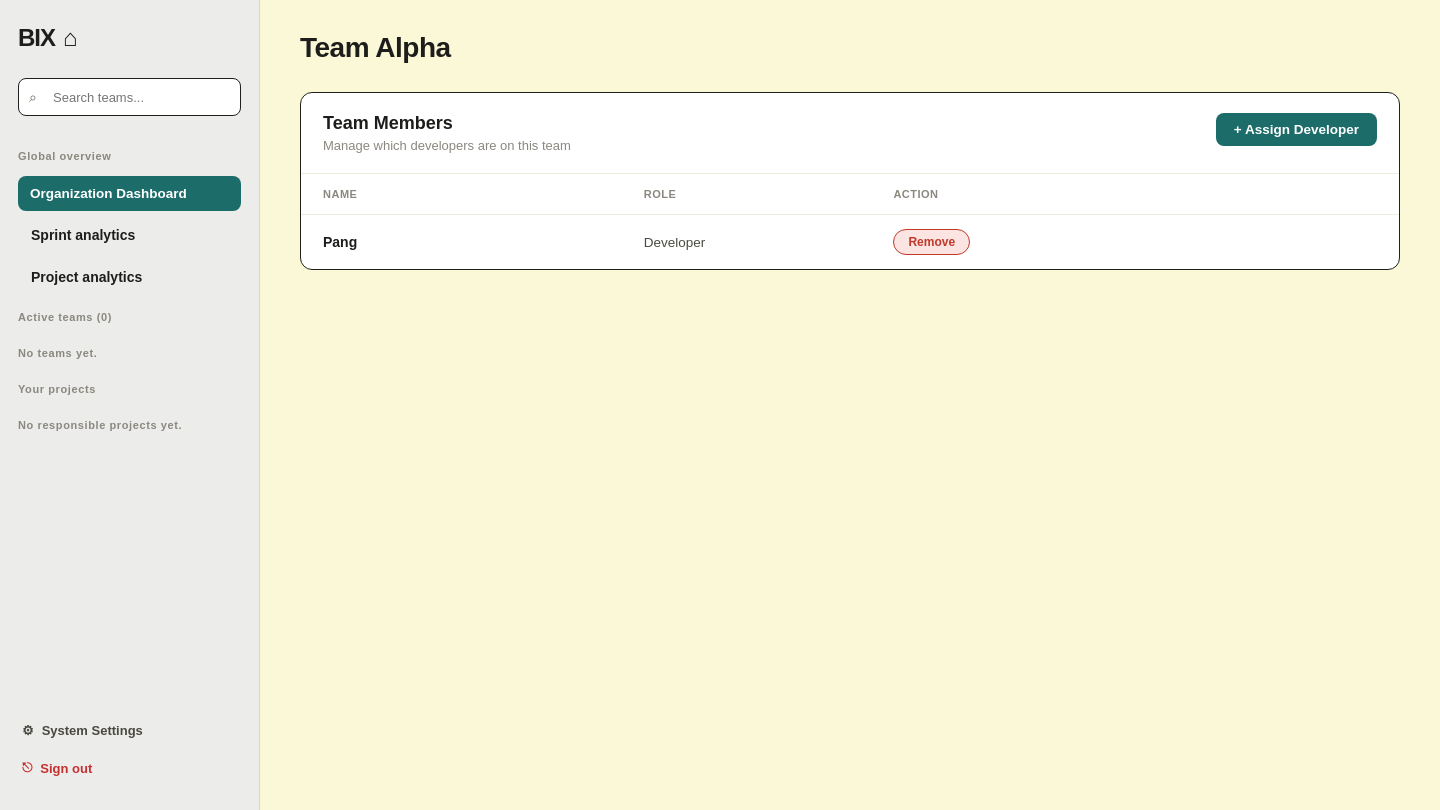
TeamDetail (real data) › filters the assign-modal candidate list by search
Expected: the heading "Team Alpha" is shown, [300, 32, 451, 63]
Click the button "+ Assign Developer". click: (1296, 130)
box: [1216, 113, 1377, 146]
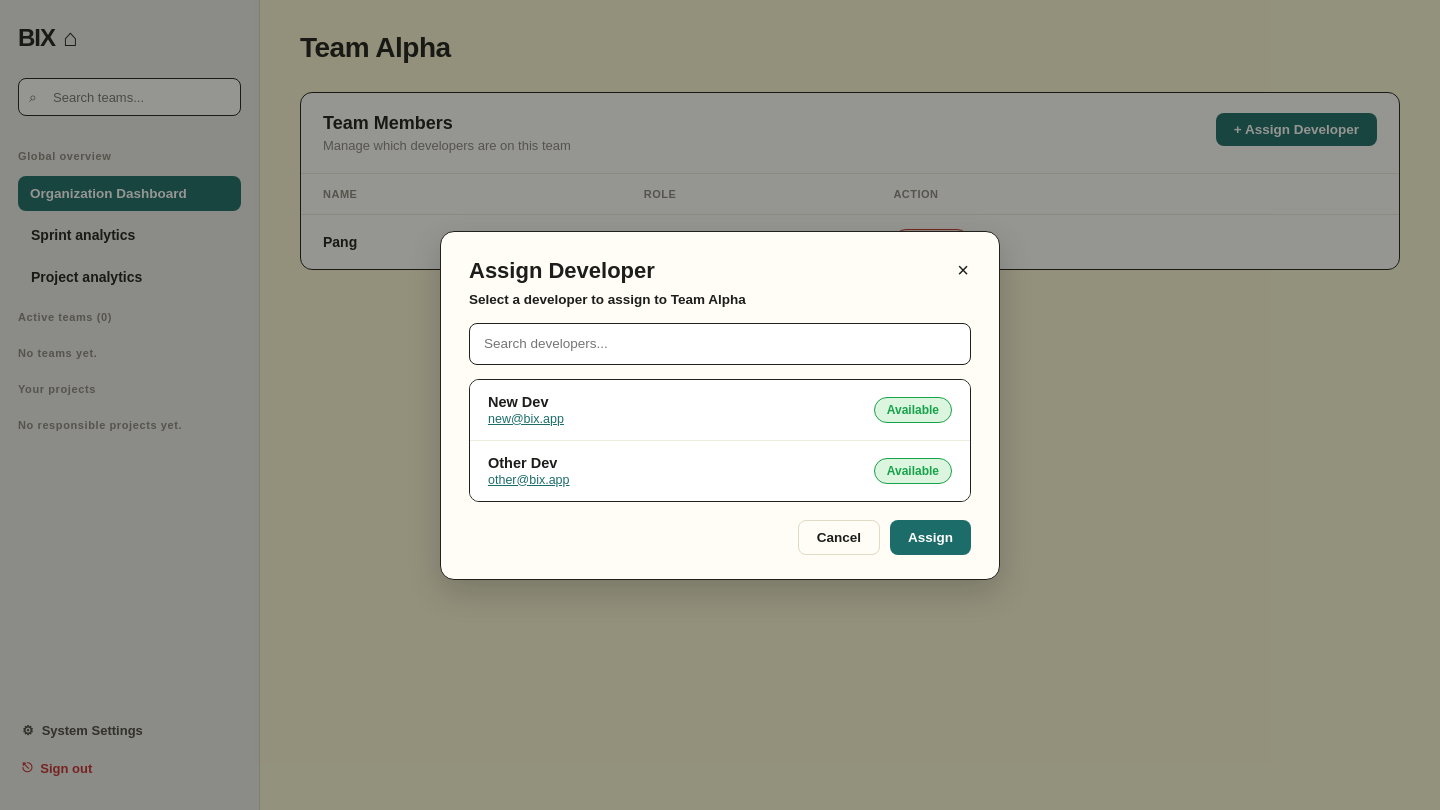
Result: the text "New Dev" is shown at [488, 394, 548, 410]
Type "other" into the field labelled "Search developers". click: (720, 344)
box: [469, 322, 971, 364]
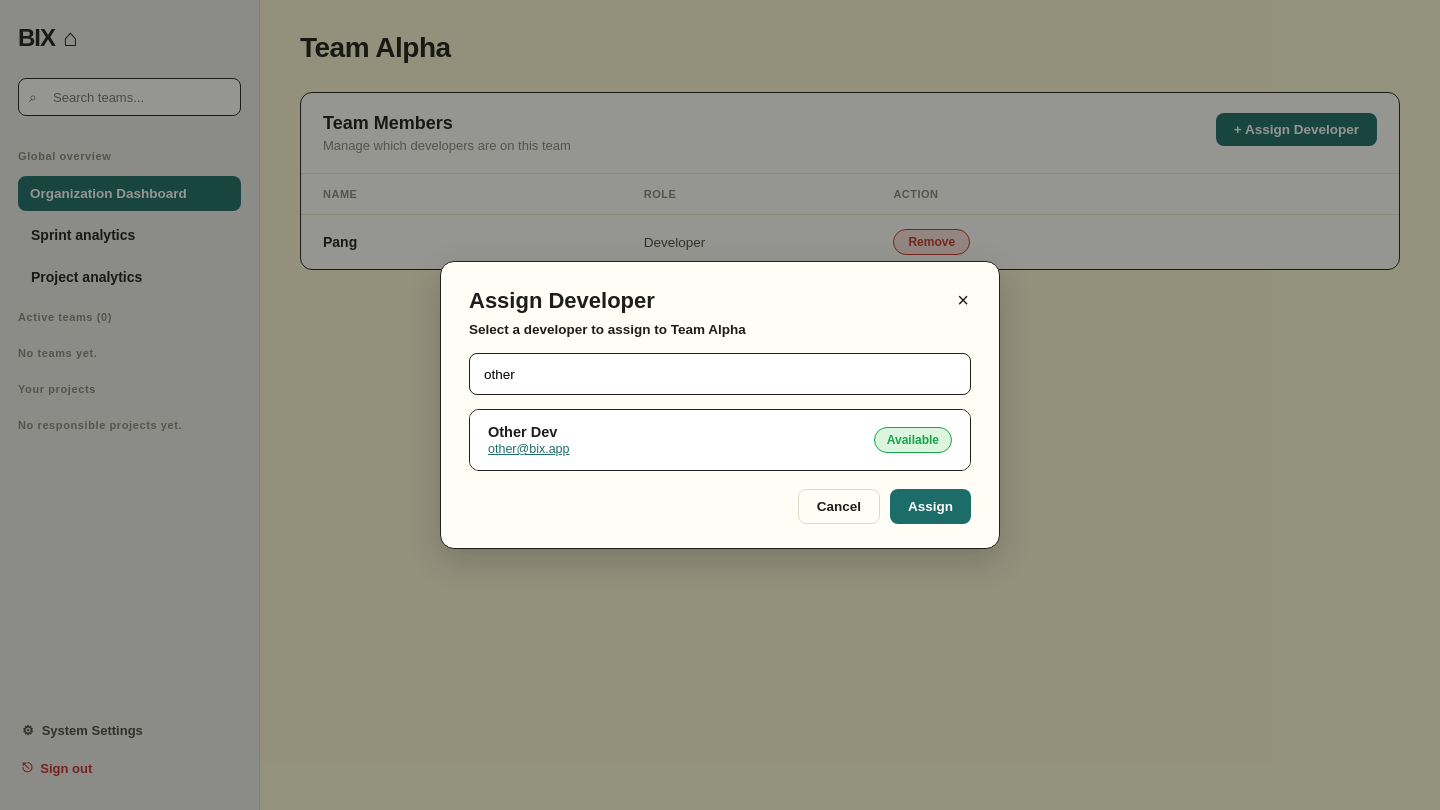
Result: the text "Other Dev" is shown at [488, 424, 570, 440]
Result: the button "New Dev" is gone
